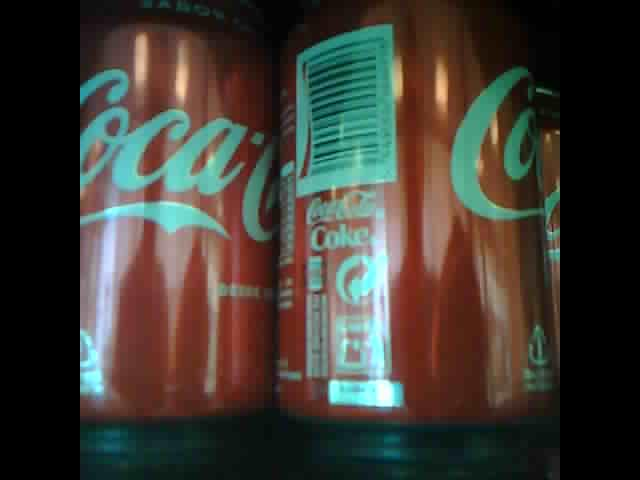coca cola: (274, 1, 558, 432), (78, 3, 274, 439)
